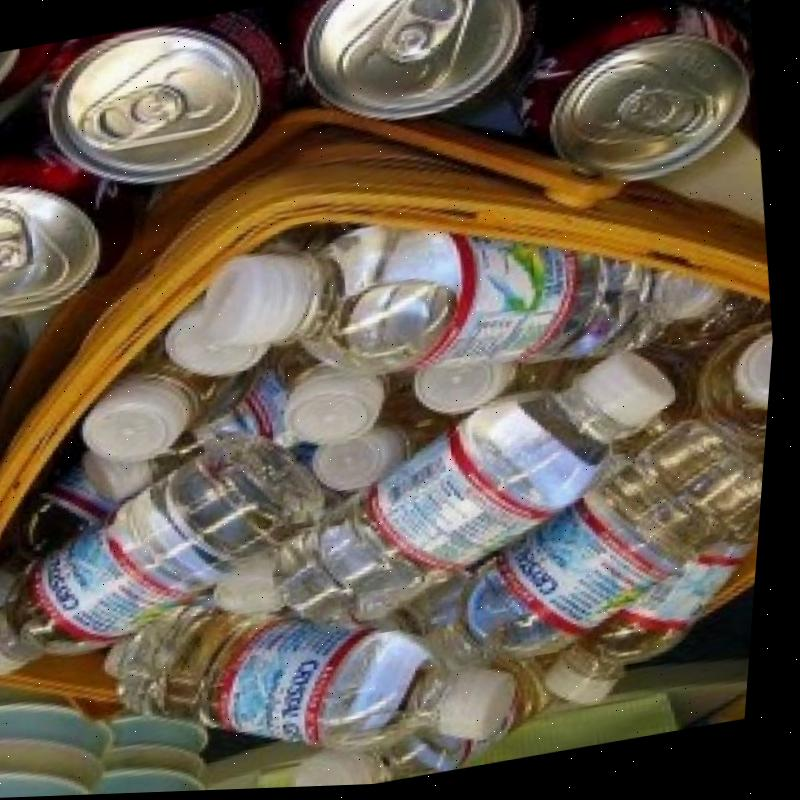botella: (264, 347, 708, 641), (195, 170, 689, 425), (115, 551, 536, 795), (406, 415, 774, 684), (0, 422, 342, 681), (534, 511, 769, 719), (72, 335, 272, 471), (688, 324, 780, 458), (279, 358, 401, 456), (166, 294, 292, 388), (312, 427, 423, 503), (417, 357, 527, 423)
